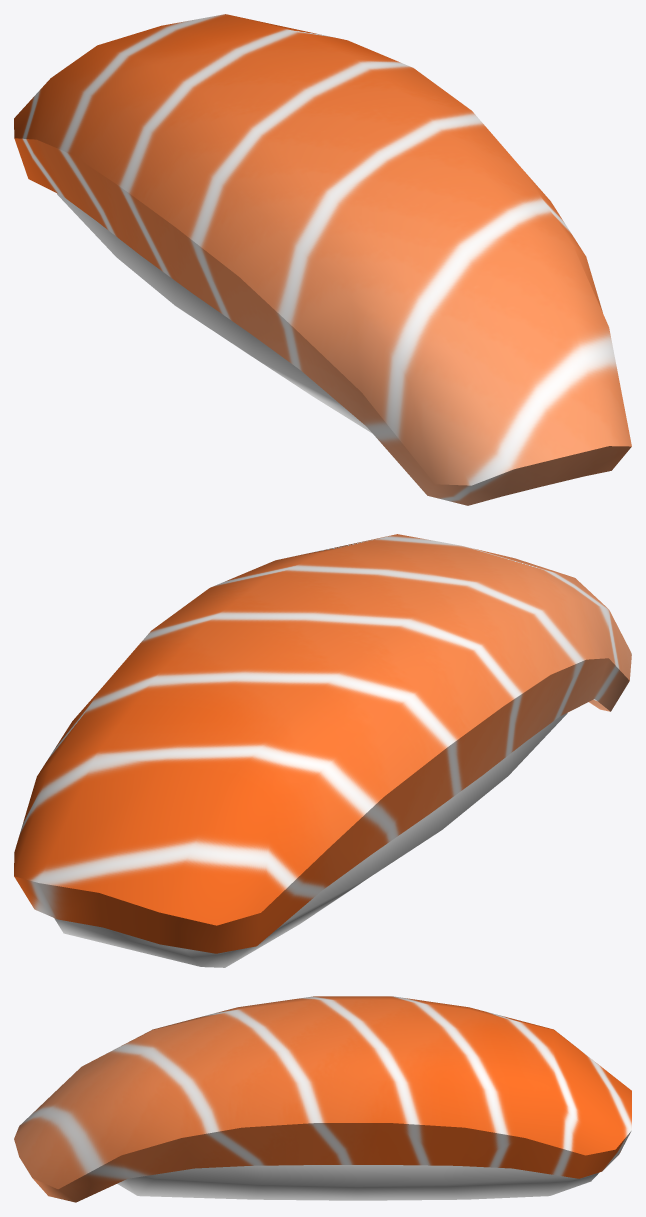
Rendered from Sushi_Salmon.FBX.
3 views of the same model, one above another, from view 1: azimuth 30°, elevation 25°; view 2: azimuth 150°, elevation 25°; view 3: azimuth 270°, elevation 25° (orthographic). The views are drawn at different scales.
Parts seen in each view (by area): view 1: sushi_sarmon, syari_salmon; view 2: sushi_sarmon, syari_salmon; view 3: sushi_sarmon, syari_salmon.
Boxes of the visible parts, <box> form: sushi_sarmon: <box>14,14,631,505</box>; syari_salmon: <box>57,193,372,433</box>; sushi_sarmon: <box>14,534,631,953</box>; syari_salmon: <box>54,713,567,967</box>; sushi_sarmon: <box>14,996,631,1202</box>; syari_salmon: <box>117,1165,599,1200</box>.
Bounding box in the file's own units: 0.039 × 0.0262 × 0.0955.
